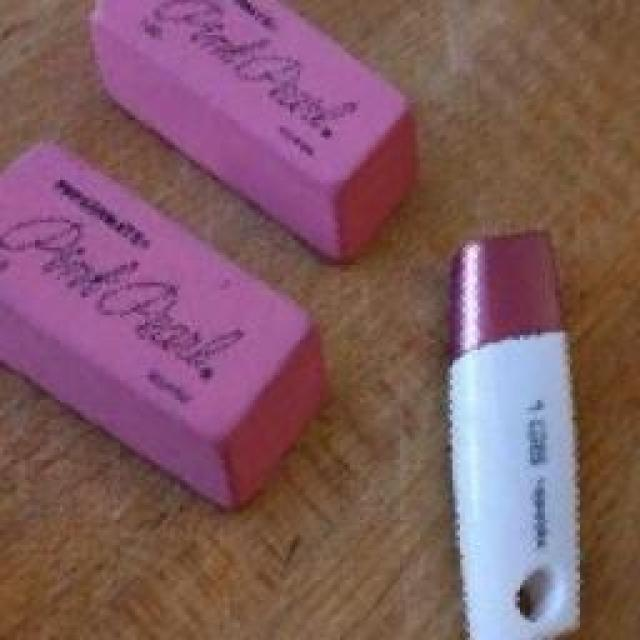Silgi: (0, 138, 326, 516)
